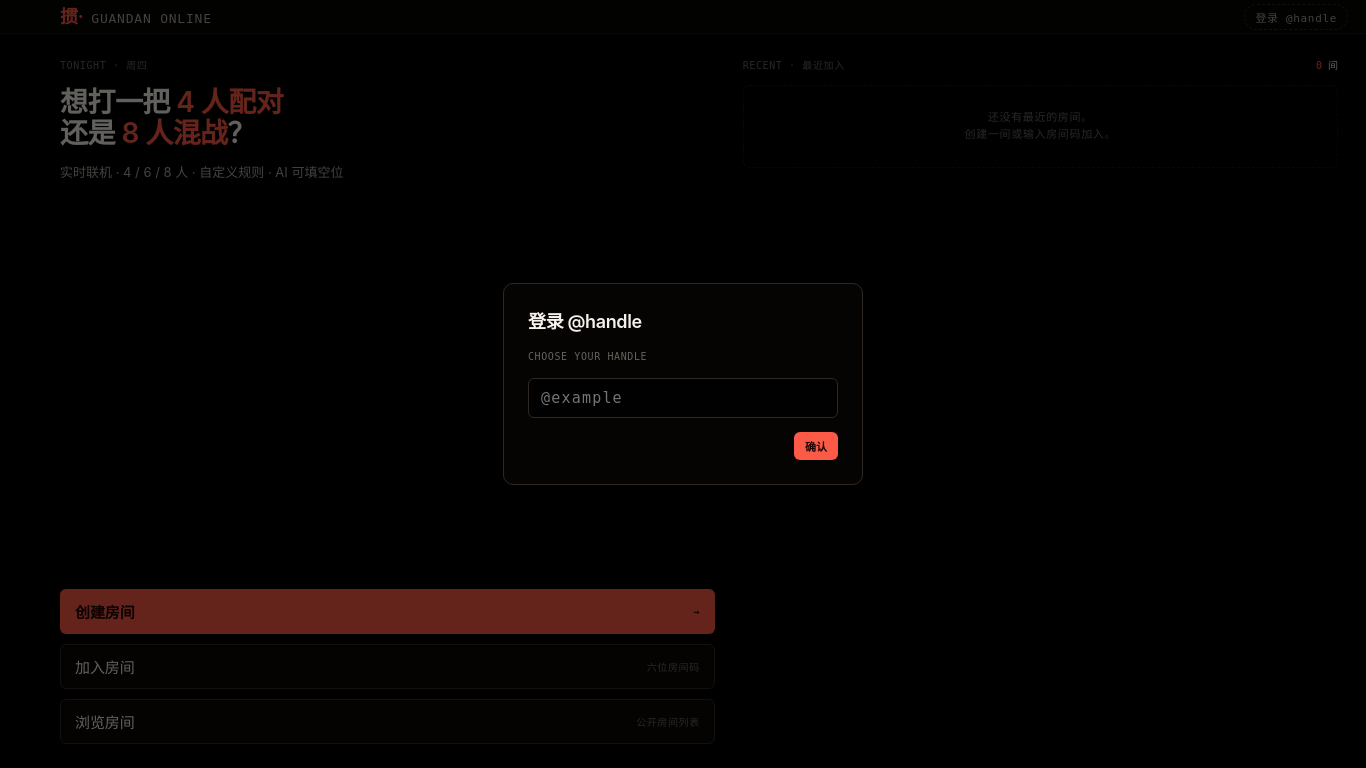
Test: Landing › persists handle to localStorage after submit
In the field named "handle": point(683, 398) [528,378,838,418], type "@饭团"
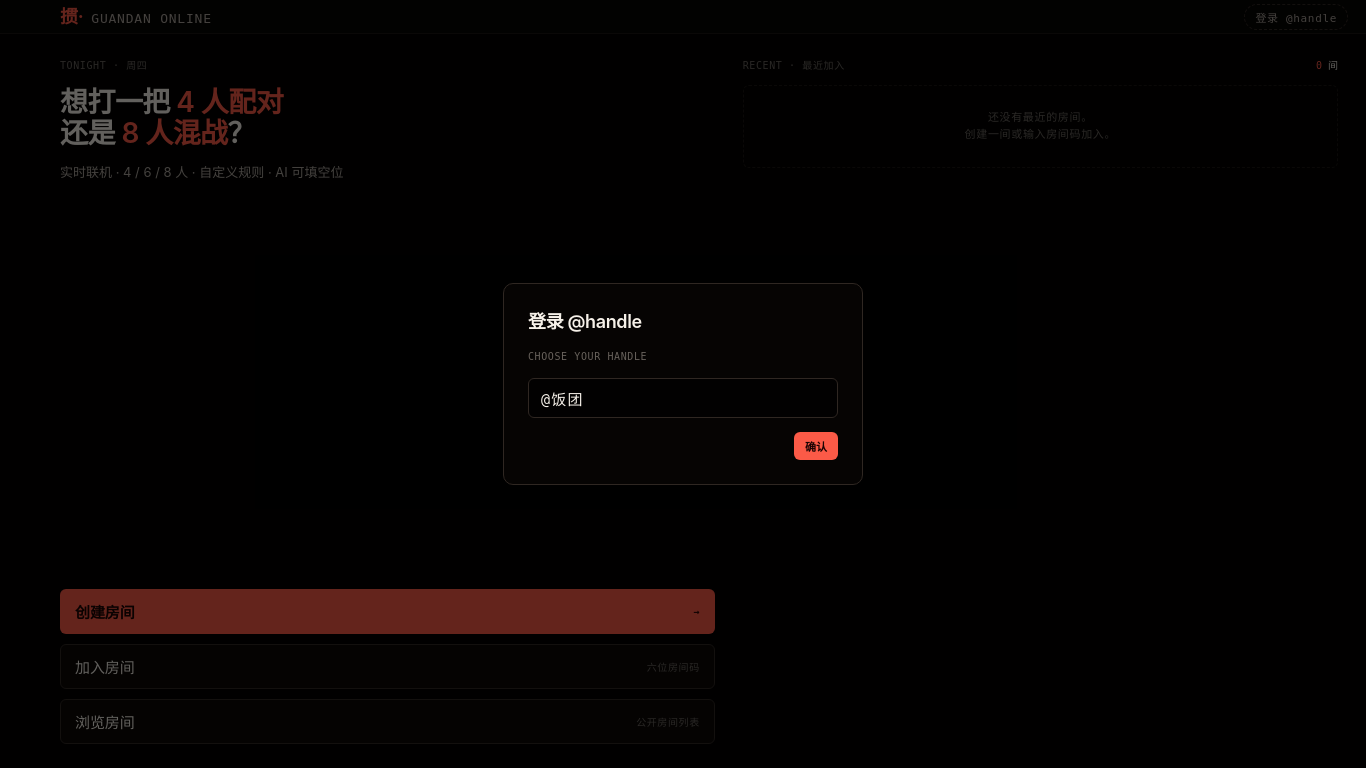
Click the button "确认": point(816, 446) [794,432,838,460]
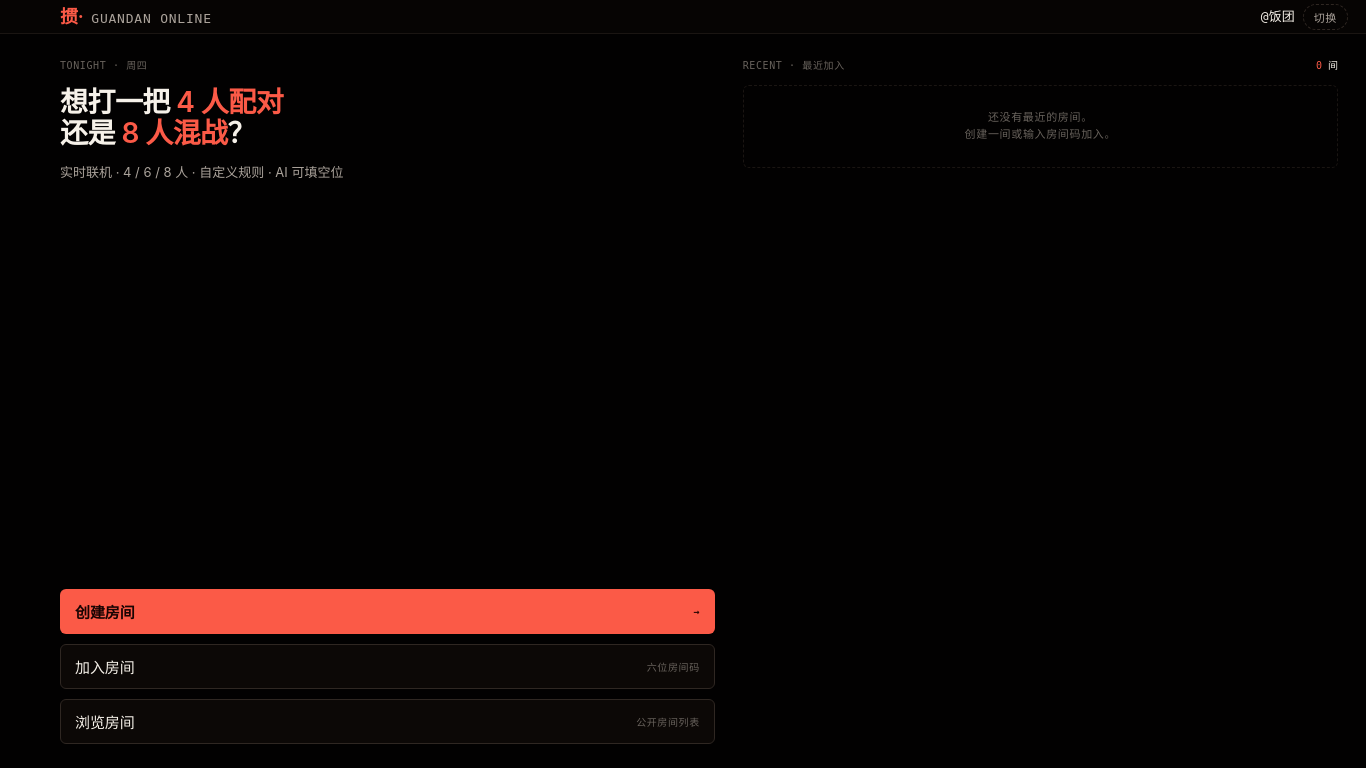
Check: the text "@饭团" is shown, box [1261,7,1295,26]
Check: the field labelled "登录 handle" is gone
